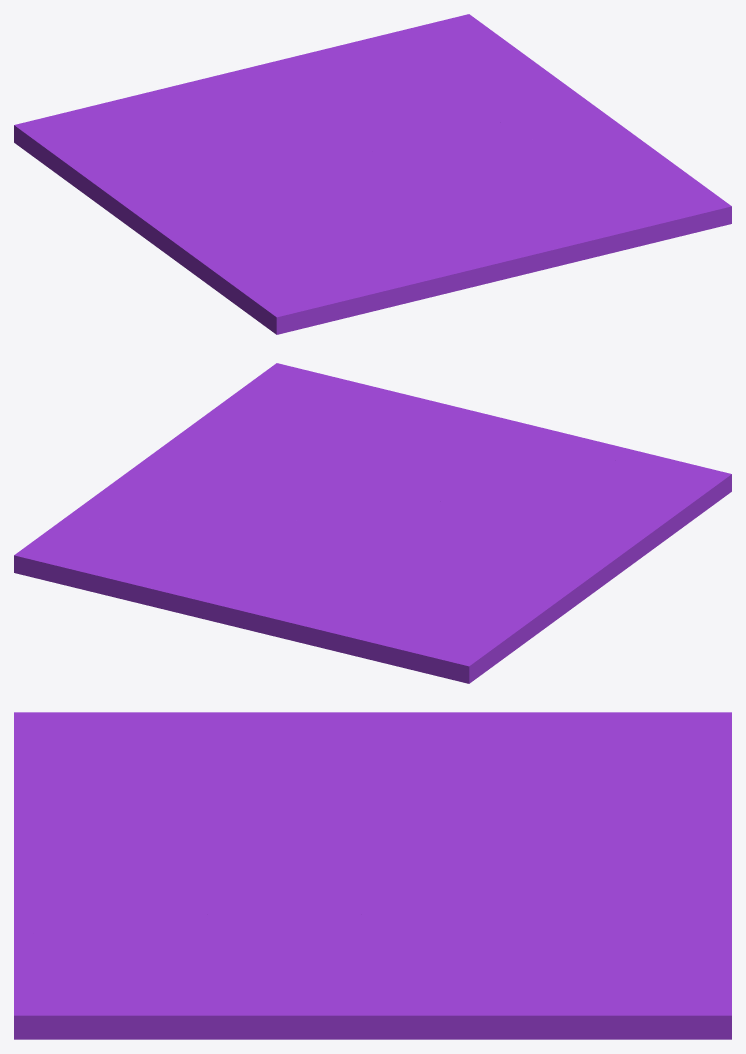
File: Platform_33_chunks.fbx
3 views of the same model, one above another, from view 1: azimuth 30°, elevation 25°; view 2: azimuth 150°, elevation 25°; view 3: azimuth 270°, elevation 25° (orthographic). The views are drawn at different scales.
Visible parts, largest first — view 1: Platform_33_8, Platform_33_12, Platform_33_14, Platform_33_9, Platform_33_3, Platform_33_2, Platform_33_6, Platform_33_13, Platform_33_10, Platform_33_7, Platform_33_0, Platform_33_4 (+3 smaller); view 2: Platform_33_8, Platform_33_9, Platform_33_14, Platform_33_3, Platform_33_12, Platform_33_2, Platform_33_6, Platform_33_13, Platform_33_10, Platform_33_7, Platform_33_0, Platform_33_4 (+3 smaller); view 3: Platform_33_14, Platform_33_8, Platform_33_12, Platform_33_6, Platform_33_9, Platform_33_3, Platform_33_2, Platform_33_13, Platform_33_10, Platform_33_7, Platform_33_0, Platform_33_4 (+3 smaller).
Boxes of the visible parts, x1=… form: Platform_33_8: x1=156, y1=201, x2=369, y2=334; Platform_33_12: x1=361, y1=197, x2=615, y2=311; Platform_33_14: x1=500, y1=126, x2=731, y2=252; Platform_33_9: x1=14, y1=116, x2=235, y2=246; Platform_33_3: x1=52, y1=56, x2=297, y2=134; Platform_33_2: x1=292, y1=27, x2=414, y2=123; Platform_33_6: x1=455, y1=33, x2=621, y2=138; Platform_33_13: x1=366, y1=141, x2=516, y2=213; Platform_33_10: x1=214, y1=143, x2=368, y2=214; Platform_33_7: x1=404, y1=14, x2=495, y2=103; Platform_33_0: x1=167, y1=117, x2=389, y2=168; Platform_33_4: x1=396, y1=102, x2=536, y2=158; Platform_33_8: x1=477, y1=453, x2=731, y2=578; Platform_33_9: x1=406, y1=554, x2=611, y2=683; Platform_33_14: x1=168, y1=363, x2=395, y2=474; Platform_33_3: x1=169, y1=568, x2=431, y2=670; Platform_33_12: x1=382, y1=392, x2=646, y2=492; Platform_33_2: x1=69, y1=530, x2=314, y2=610; Platform_33_6: x1=41, y1=443, x2=234, y2=535; Platform_33_13: x1=252, y1=457, x2=474, y2=514; Platform_33_10: x1=381, y1=493, x2=499, y2=583; Platform_33_7: x1=14, y1=516, x2=230, y2=580; Platform_33_0: x1=314, y1=511, x2=412, y2=605; Platform_33_4: x1=203, y1=468, x2=346, y2=534; Platform_33_14: x1=14, y1=913, x2=342, y2=1039; Platform_33_8: x1=14, y1=712, x2=355, y2=826; Platform_33_12: x1=14, y1=769, x2=242, y2=936; Platform_33_6: x1=289, y1=948, x2=690, y2=1039; Platform_33_9: x1=342, y1=712, x2=731, y2=800; Platform_33_3: x1=563, y1=737, x2=731, y2=901; Platform_33_2: x1=501, y1=856, x2=731, y2=979; Platform_33_13: x1=216, y1=827, x2=376, y2=951; Platform_33_10: x1=241, y1=780, x2=543, y2=859; Platform_33_7: x1=493, y1=922, x2=731, y2=1039; Platform_33_0: x1=368, y1=782, x2=599, y2=875; Platform_33_4: x1=337, y1=880, x2=524, y2=964.
Bounding box in the file's own units: 810 × 29.87 × 810.
